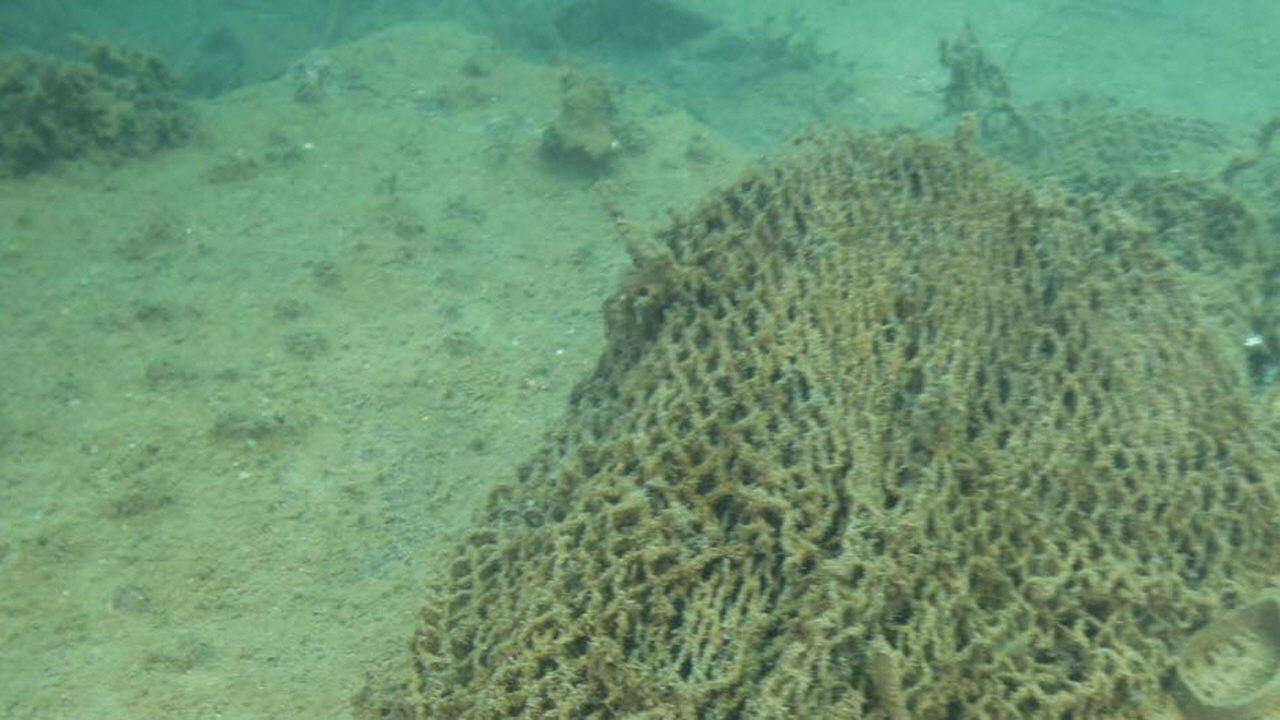fish net: (350, 124, 1280, 720)
